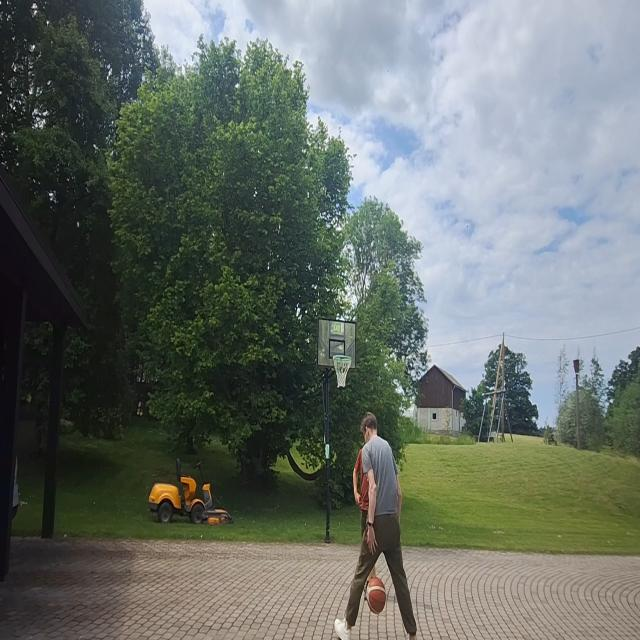ball: (366, 574, 388, 614)
basket: (332, 352, 352, 392)
player: (334, 407, 418, 640), (350, 447, 373, 537)
